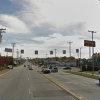Car: (40, 61, 54, 77)
